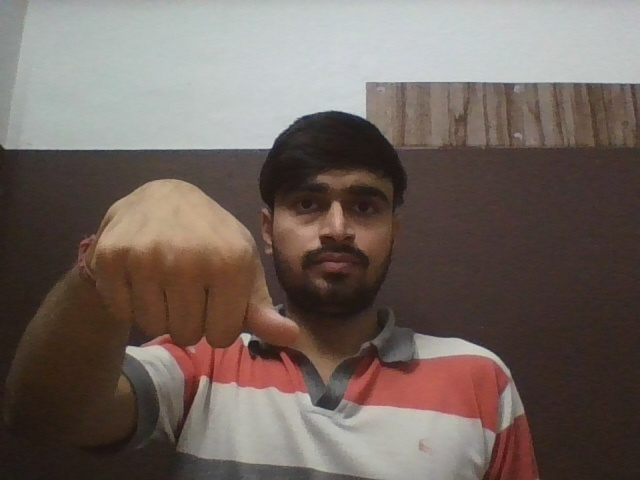Yes: (91, 174, 300, 350)
